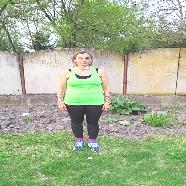high_jumps: (49, 49, 126, 157)
